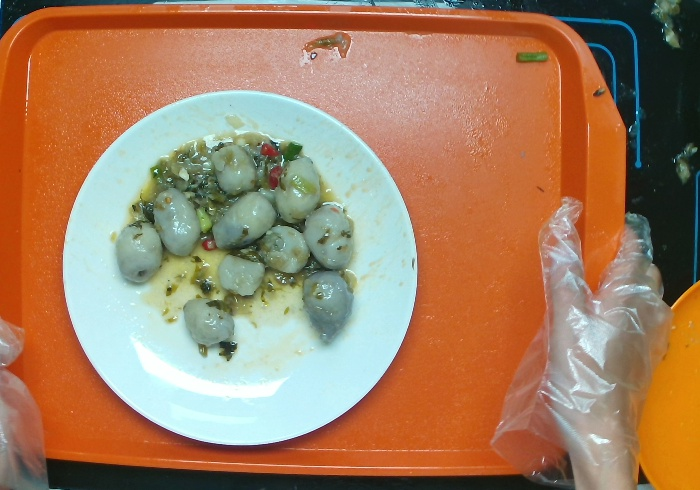HZYJPL-Bai_Se_Yuan_Pan: (62, 79, 424, 459)
